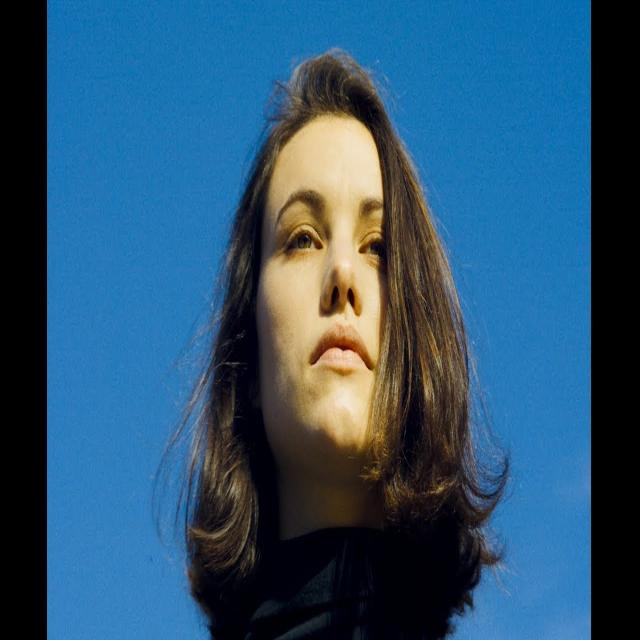mobile_phonerotation: (151, 47, 513, 637)
